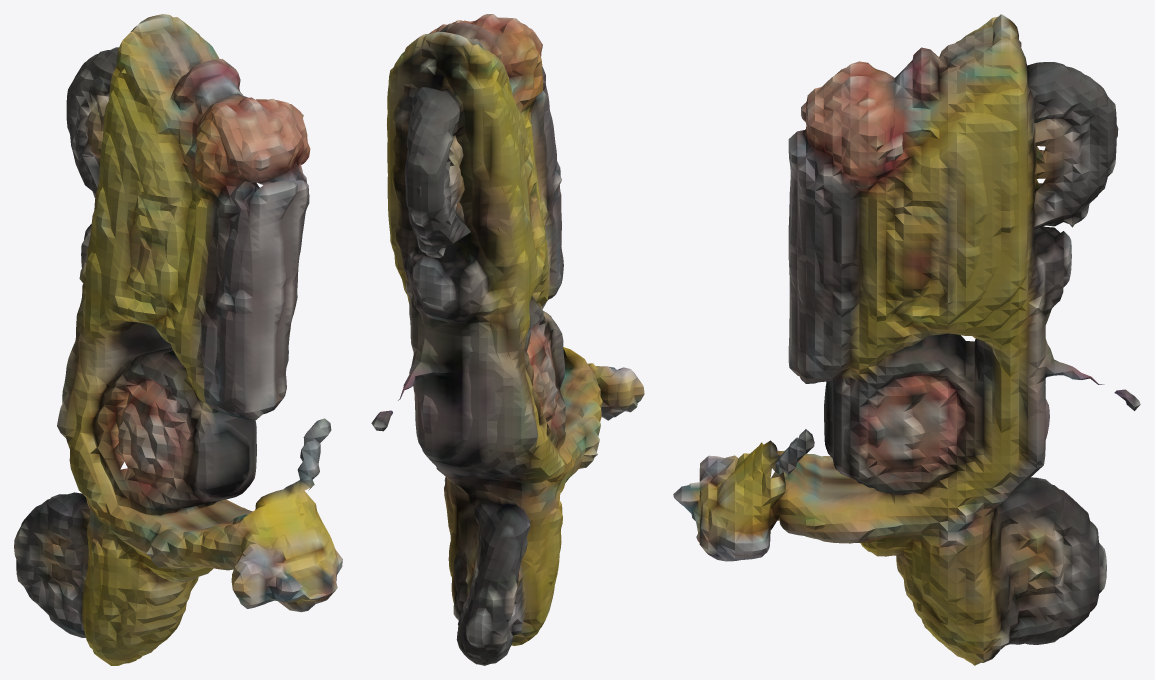
The model's file is 000000_vespa_scooter_bicycle_10240_128.glb.
The picture shows the model from 3 angles, left to right: view 1: azimuth 30°, elevation 25°; view 2: azimuth 150°, elevation 25°; view 3: azimuth 270°, elevation 25°; orthographic projection. The views are drawn at different scales.
Parts seen in each view (by area): view 1: world; view 2: world; view 3: world.
Part boxes in pixels (<box>): world: <box>14,14,342,665</box>; world: <box>371,14,644,665</box>; world: <box>673,14,1140,665</box>.
Size of the model in its own units: 0.3649 by 1.13 by 0.7215.
